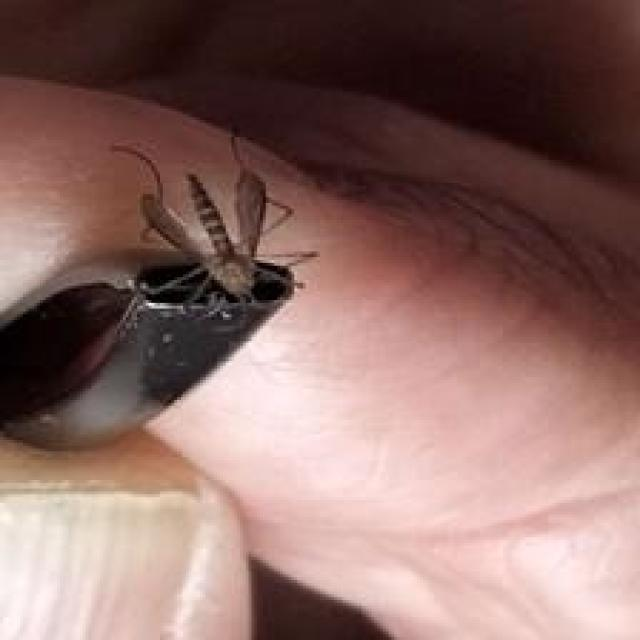Culex: (0, 124, 320, 453)
